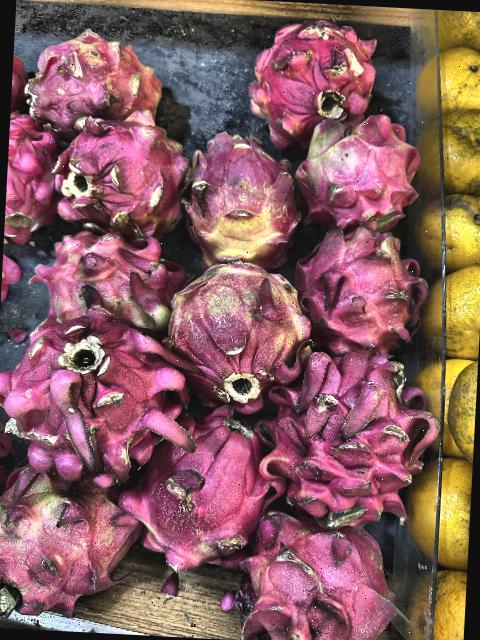buah-naga-belum-matang: (0, 456, 124, 616), (174, 257, 318, 394), (170, 128, 304, 270), (34, 224, 176, 330), (292, 114, 422, 223)
buah-naga-matang: (253, 344, 436, 520), (1, 319, 184, 482), (131, 400, 276, 554), (243, 505, 392, 640), (293, 220, 440, 354), (50, 106, 188, 230), (246, 17, 382, 138), (22, 31, 170, 128), (5, 110, 59, 242)
